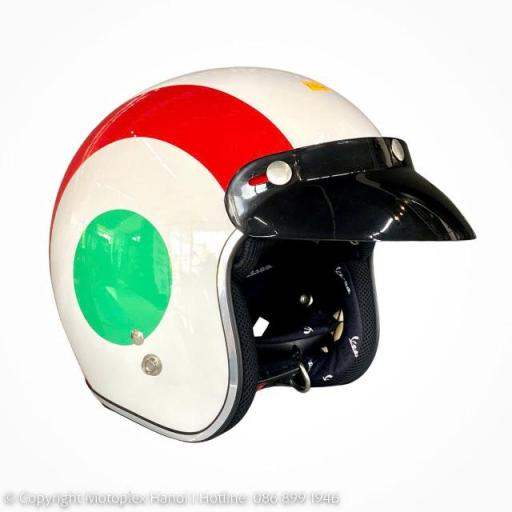with helmet: (39, 53, 485, 450)
